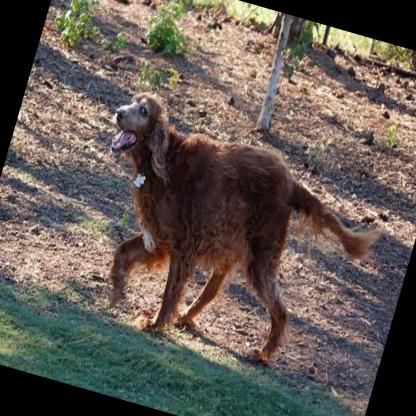Irish_setter: (60, 85, 398, 386)
